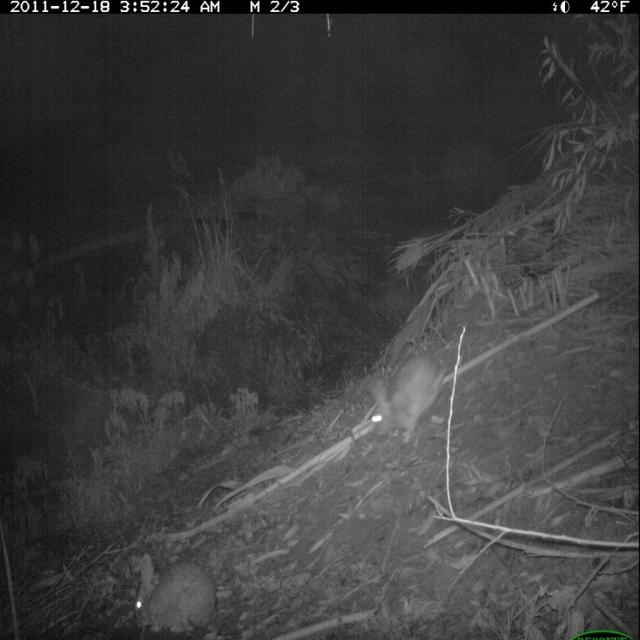rabbit: (355, 336, 449, 450), (133, 546, 230, 639)
